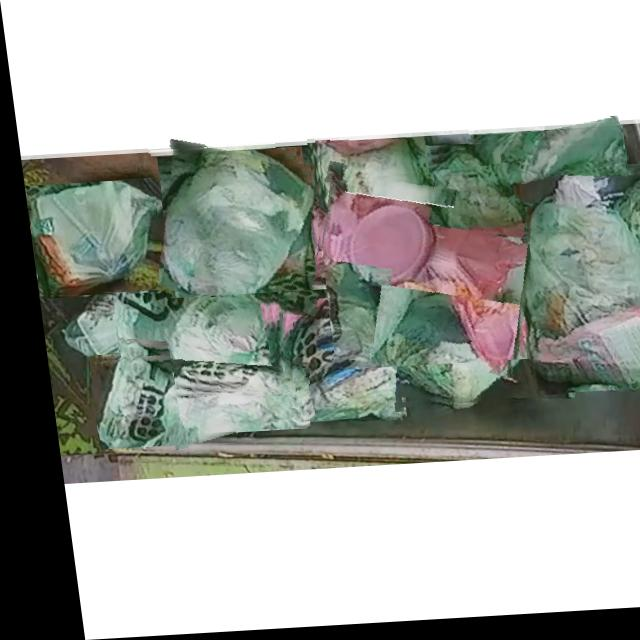general_trashbag: (314, 180, 523, 369), (511, 175, 640, 397), (154, 147, 307, 296), (105, 267, 266, 394), (386, 293, 543, 409), (268, 279, 391, 425), (24, 183, 153, 294), (156, 360, 280, 448), (467, 124, 615, 189), (86, 358, 164, 450), (401, 154, 496, 222), (314, 144, 423, 203)
